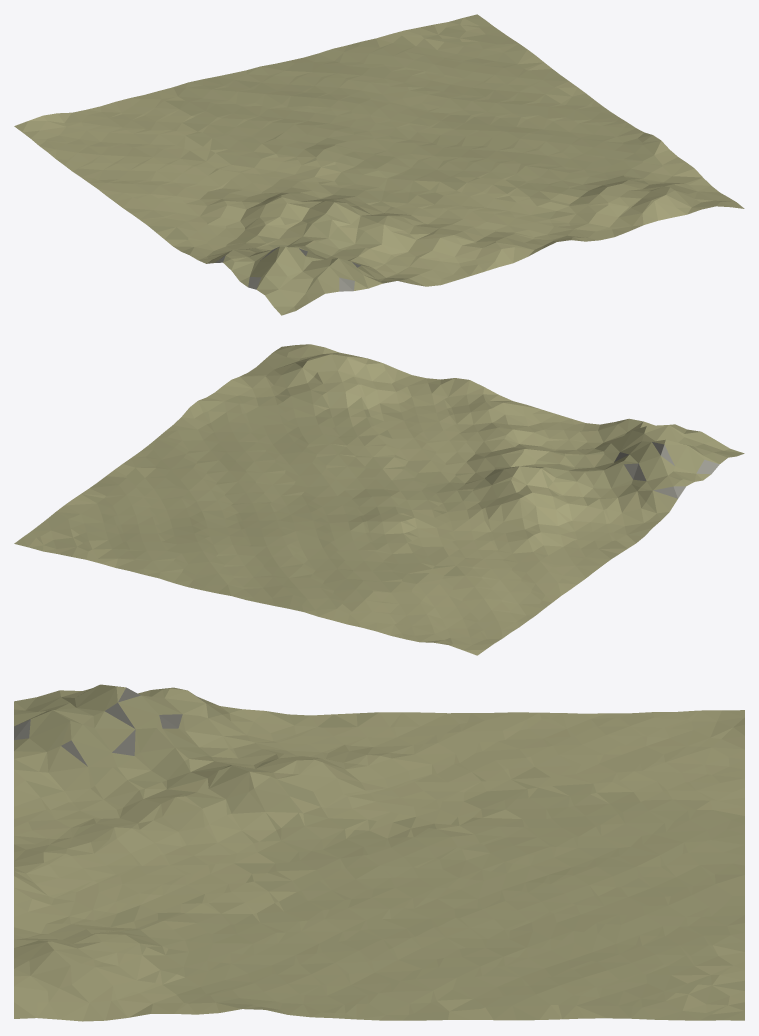
The model's file is Ground_5_-8.glb.
3 views of the same model, one above another, from view 1: azimuth 30°, elevation 25°; view 2: azimuth 150°, elevation 25°; view 3: azimuth 270°, elevation 25° (orthographic). The views are drawn at different scales.
Parts seen in each view (by area): view 1: Ground_5_-8; view 2: Ground_5_-8; view 3: Ground_5_-8.
Part boxes in pixels (x1,y1,x2,y2): Ground_5_-8: (14, 14, 744, 315); Ground_5_-8: (14, 344, 744, 655); Ground_5_-8: (14, 684, 744, 1021).
Bounding box in the file's own units: 768 × 65.78 × 768.
